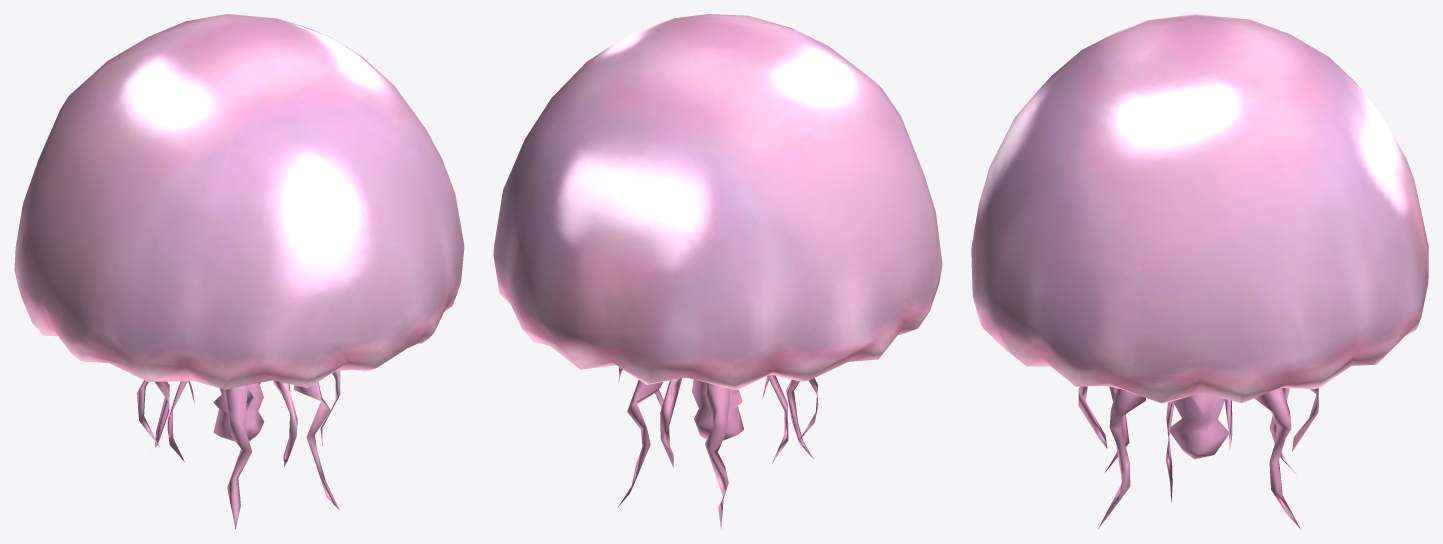
Rendered from jellyfish.glb.
The picture shows the model from 3 angles, left to right: view 1: azimuth 30°, elevation 25°; view 2: azimuth 150°, elevation 25°; view 3: azimuth 270°, elevation 25°; orthographic projection. The views are drawn at different scales.
Parts seen in each view (by area): view 1: Mesh_0; view 2: Mesh_0; view 3: Mesh_0.
Boxes of the visible parts, left/top/right/bottom form: Mesh_0: left=14, top=14, right=464, bottom=528; Mesh_0: left=493, top=14, right=942, bottom=529; Mesh_0: left=971, top=14, right=1428, bottom=529.
Bounding box in the file's own units: 1.65 × 1.87 × 1.65.
1 material, 1 textured.
